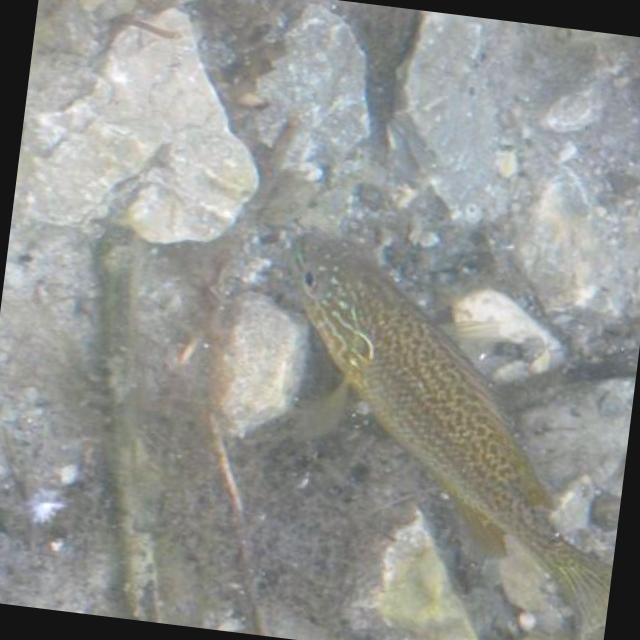Gunes Levregi: (233, 227, 640, 636)
